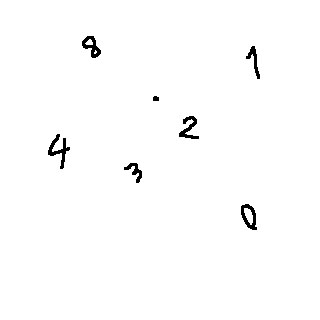.: (148, 87, 168, 107)
0: (229, 190, 265, 247)
1: (239, 41, 273, 92)
2: (175, 112, 209, 151)
3: (112, 158, 155, 190)
4: (42, 128, 82, 180)
8: (75, 21, 113, 72)
